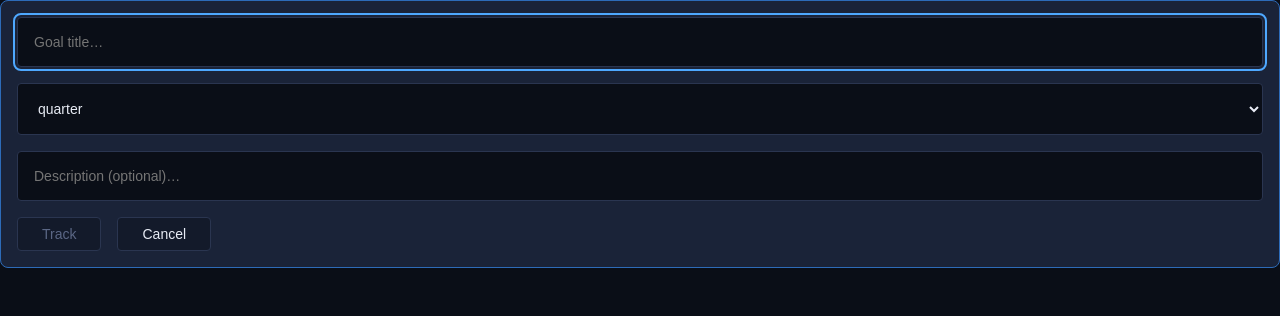
GoalForm › renders the API's own error message on failure
Type "x" into the field with placeholder "Goal title…" at (640, 42), box [17,17,1263,67]
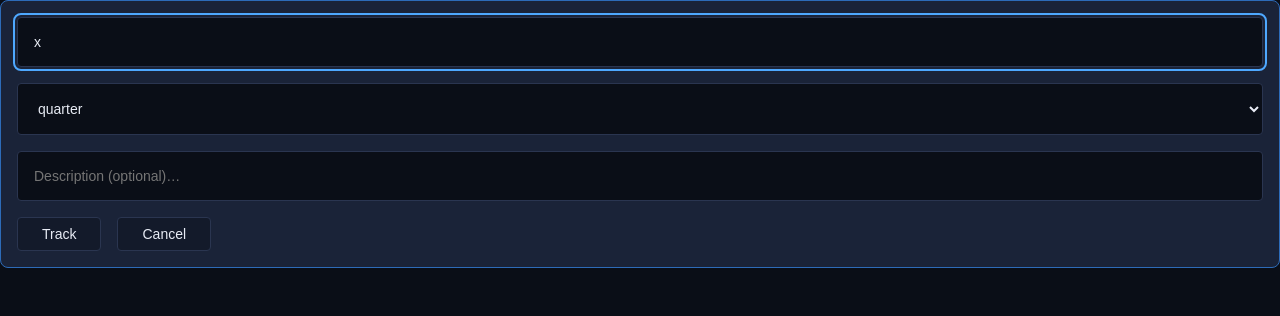
Click the button "Track" at (59, 234), box [17,217,102,251]
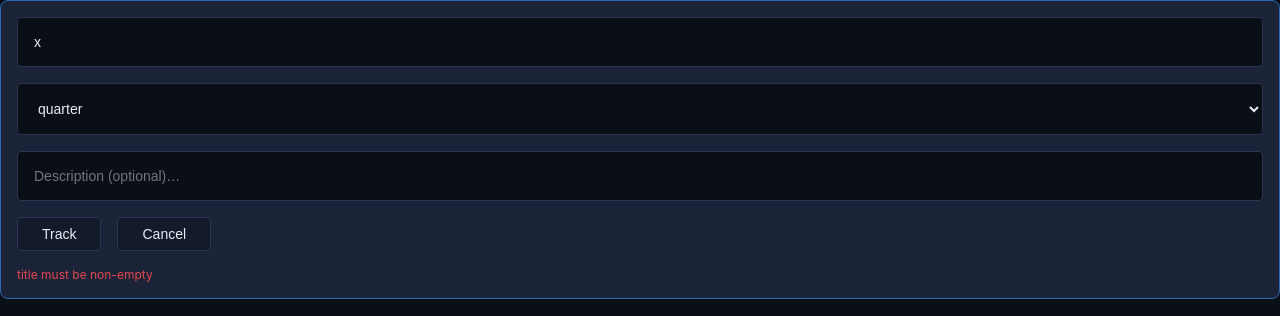
Expected: the text "title must be non-empty" is shown, [17,267,153,282]
